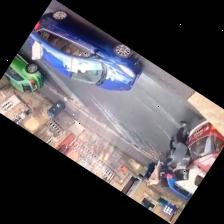person: (170, 120, 188, 168), (146, 158, 160, 185)
